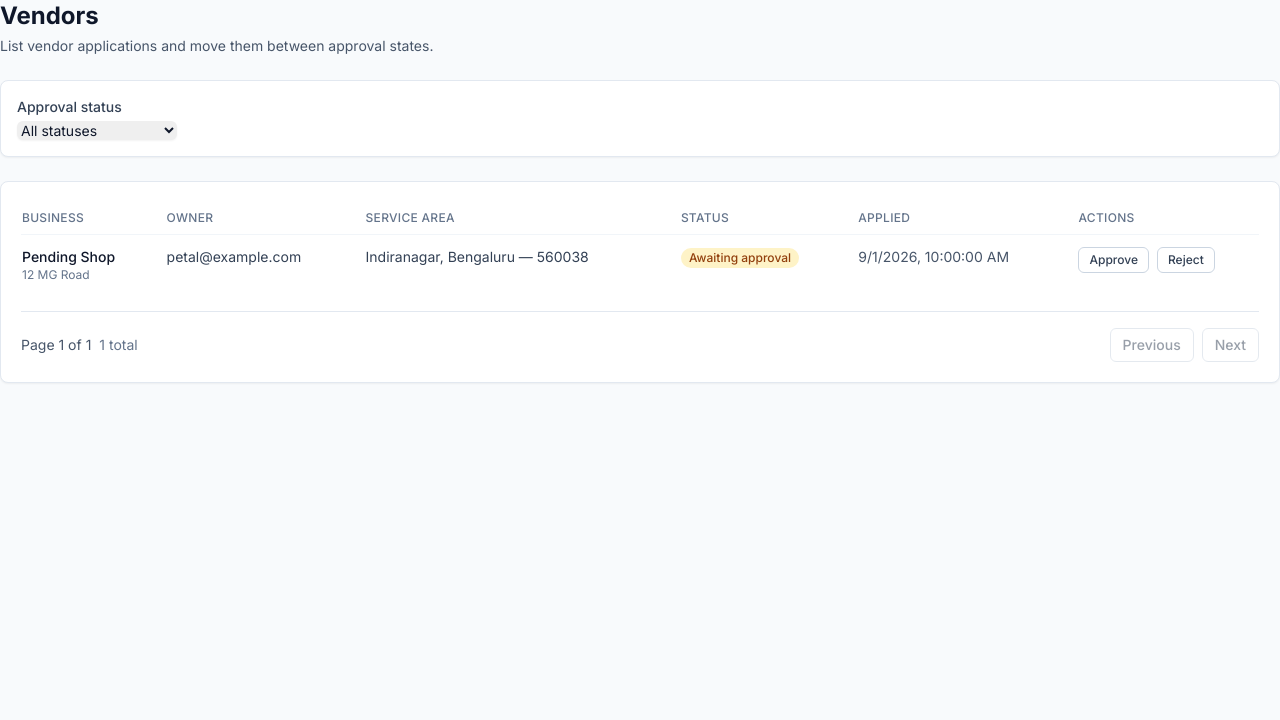
Scenario: AdminVendorsPage › does not send a second transition while one is in flight
Check: the table is shown, box [21, 202, 1259, 295]
Step 1. Click the button "Approve" → point(1114, 260), box [1078, 247, 1149, 273]
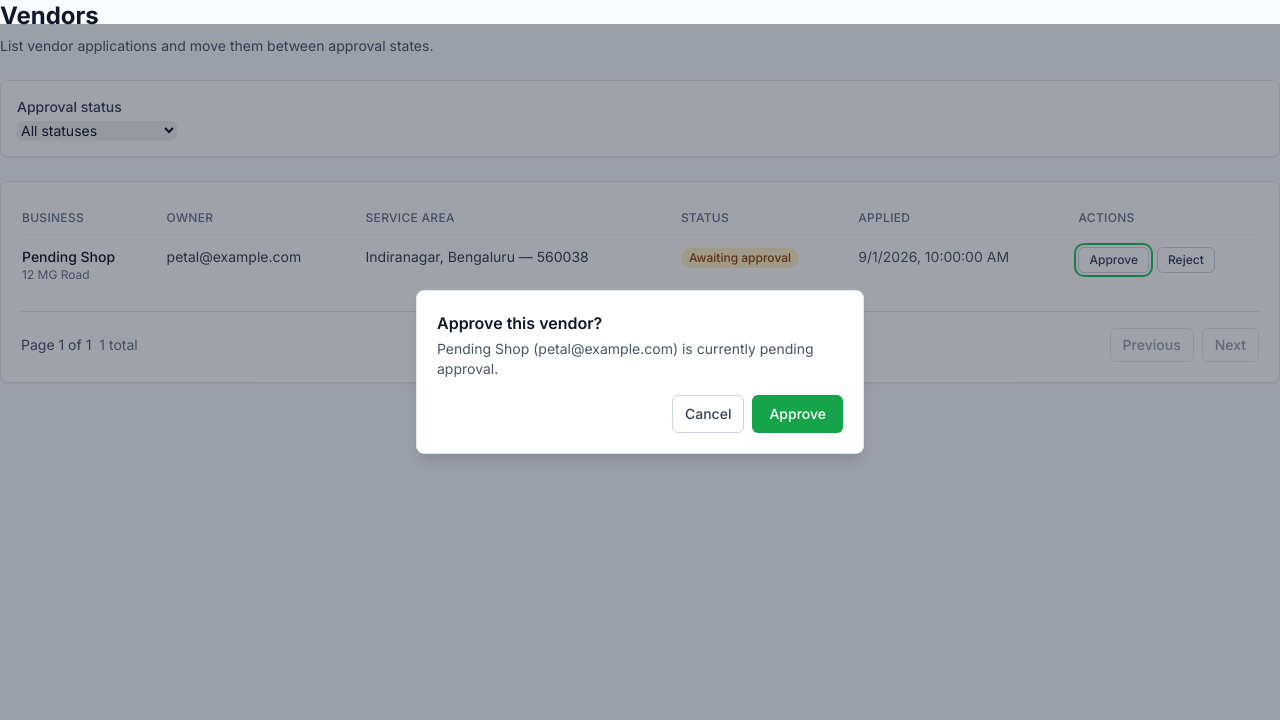
Step 2. Click the button "Approve" → point(798, 414), box [752, 395, 843, 433]
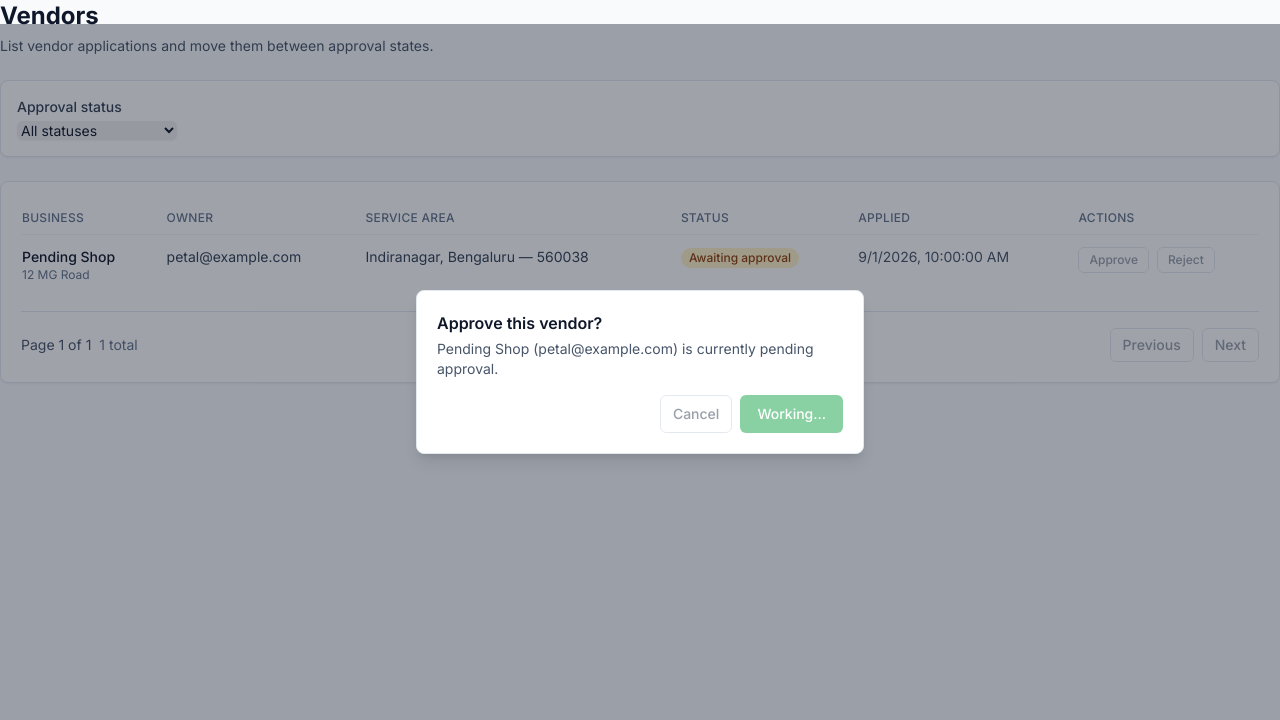
Check: the button "Working..." is disabled
Step 3. Click the button "Working..." → point(792, 414), box [740, 395, 843, 433]
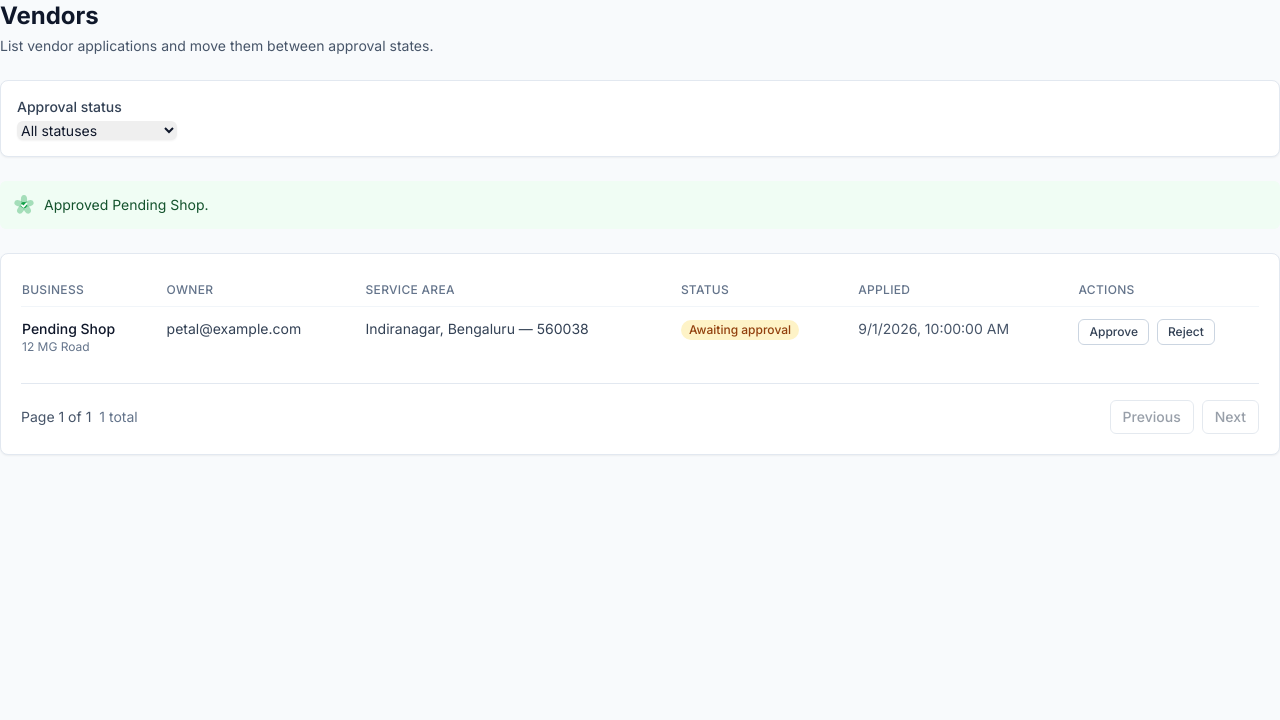
Check: the dialog is gone
